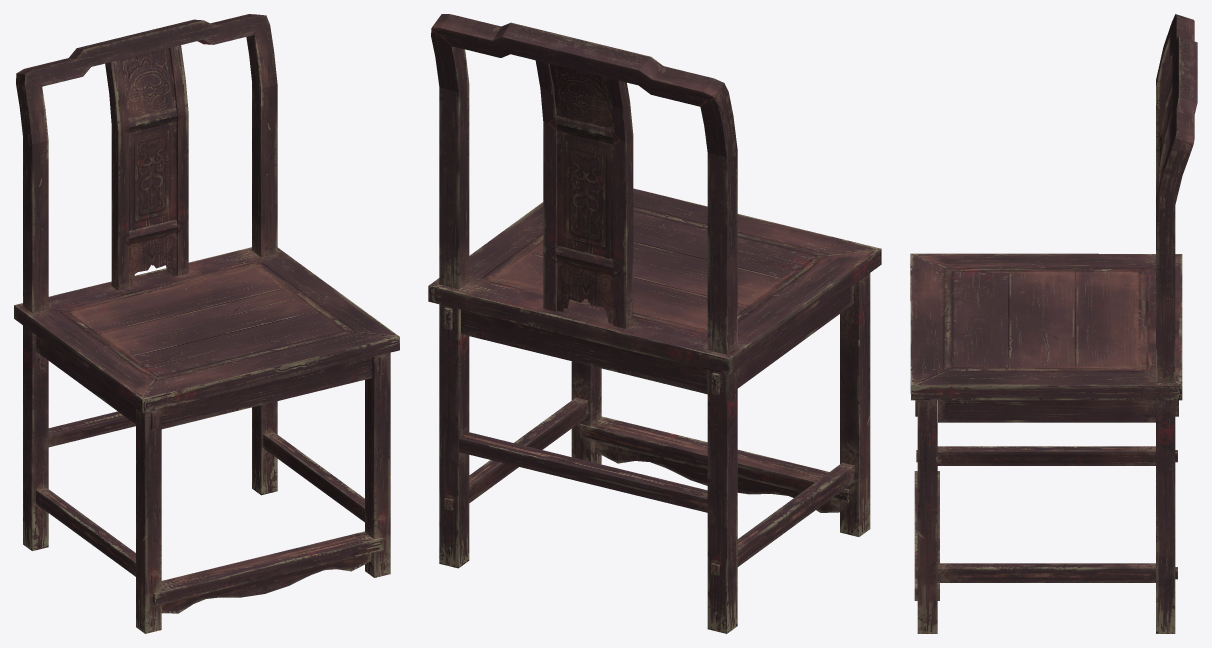
File: RedChair.fbx
3 renders of one model, left to right at view 1: azimuth 30°, elevation 25°; view 2: azimuth 150°, elevation 25°; view 3: azimuth 270°, elevation 25°, orthographic. The views are drawn at different scales.
Parts seen in each view (by area): view 1: 3D_RedYiZi.mo; view 2: 3D_RedYiZi.mo; view 3: 3D_RedYiZi.mo.
Part boxes in pixels (bbox=[...]): 3D_RedYiZi.mo: bbox=[14, 14, 399, 633]; 3D_RedYiZi.mo: bbox=[428, 14, 881, 633]; 3D_RedYiZi.mo: bbox=[910, 14, 1197, 633].
Bounding box in the file's own units: 55.92 × 99.22 × 51.25.
1 material, 1 textured.
